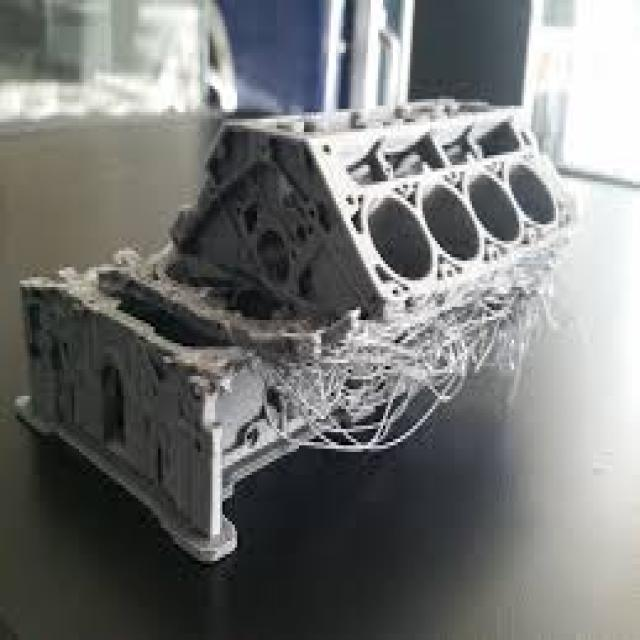Spaghetti: (264, 337, 464, 463), (466, 288, 582, 399)
